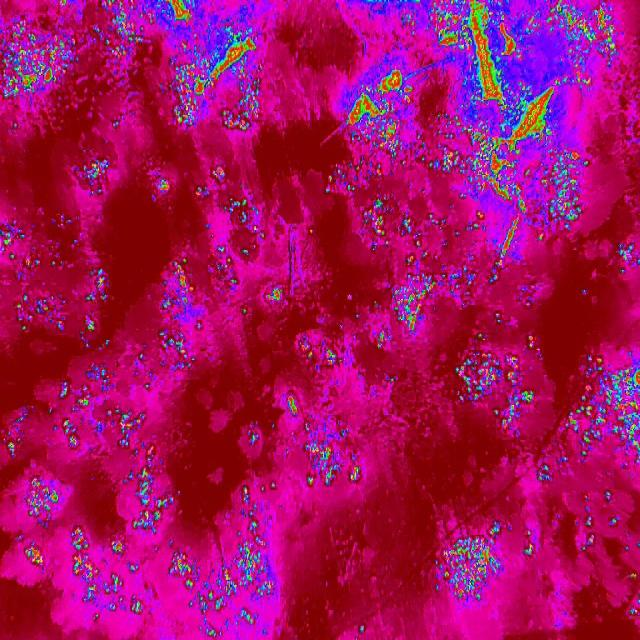fire: (0, 150, 371, 640), (418, 72, 595, 248), (342, 160, 488, 352), (522, 452, 640, 640), (0, 0, 80, 136), (565, 345, 640, 479), (430, 0, 522, 108), (174, 26, 264, 136), (452, 332, 538, 434), (343, 68, 418, 160), (435, 520, 507, 606), (537, 0, 623, 70), (90, 0, 145, 58), (490, 209, 524, 272), (145, 0, 202, 24), (611, 240, 640, 280)
